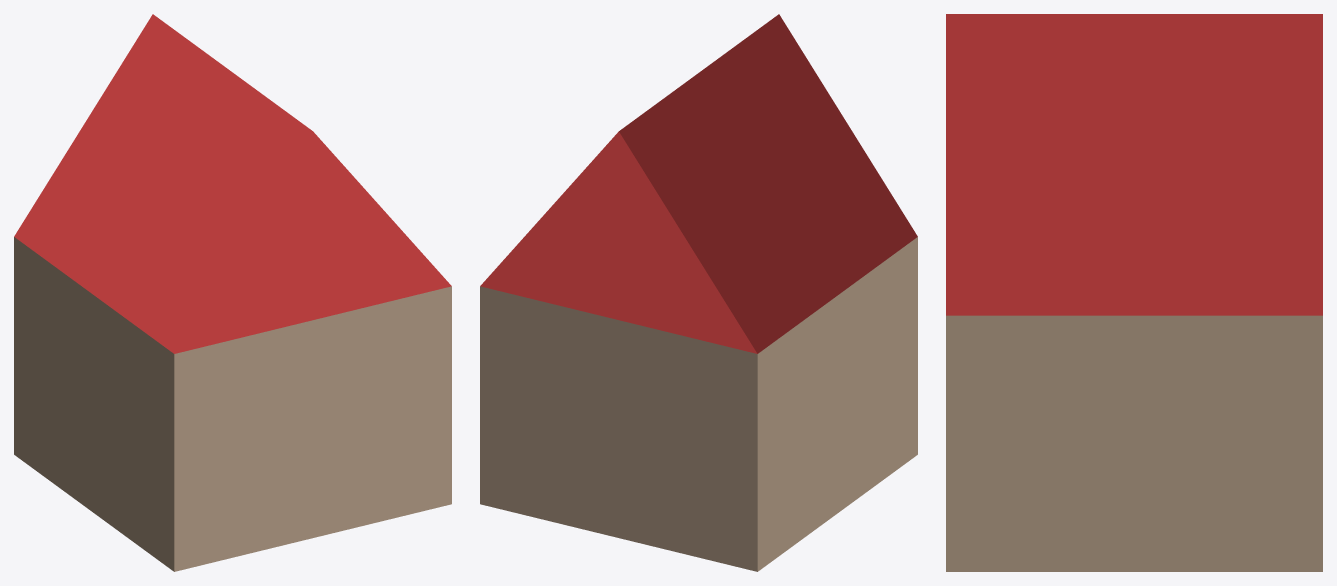
File: house.obj
3 views of the same model, side by side, from view 1: azimuth 30°, elevation 25°; view 2: azimuth 150°, elevation 25°; view 3: azimuth 270°, elevation 25° (orthographic). The views are drawn at different scales.
Size of the model in its own units: 2 by 2.8 by 2.
